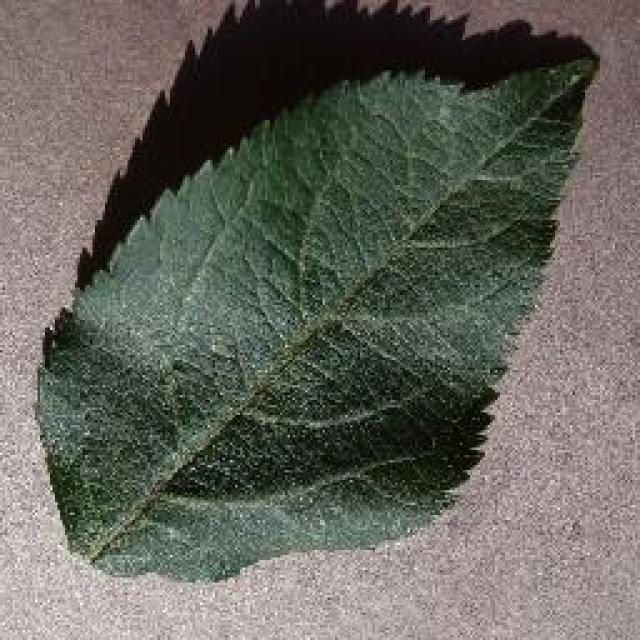apple healthy: (32, 0, 600, 585)
